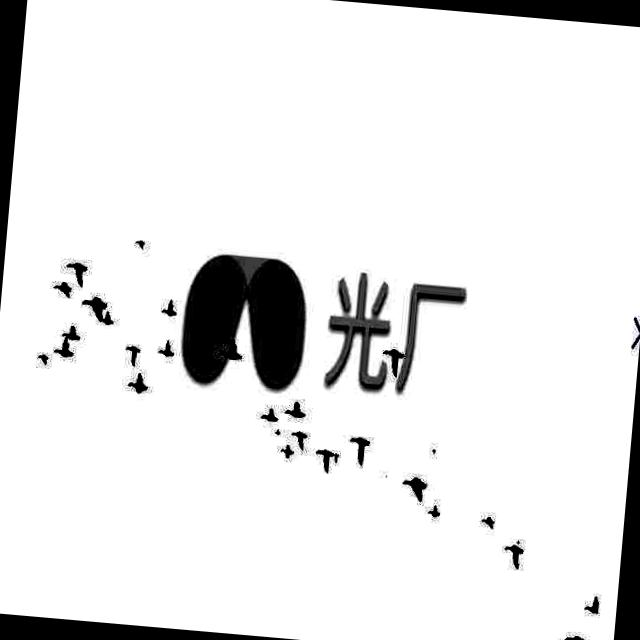bird: (379, 340, 409, 380), (400, 469, 430, 505), (347, 430, 374, 469), (216, 332, 246, 366), (77, 285, 107, 318), (312, 442, 338, 480), (49, 336, 76, 371), (502, 533, 527, 570), (474, 506, 501, 538), (64, 254, 90, 284), (52, 316, 80, 342), (582, 586, 604, 618), (161, 289, 182, 322), (124, 372, 150, 397), (157, 336, 178, 366), (32, 342, 52, 373), (99, 308, 121, 336), (122, 339, 142, 367), (284, 398, 310, 419), (49, 279, 72, 302), (291, 425, 311, 449), (561, 625, 590, 640), (259, 404, 280, 424), (428, 503, 443, 527), (278, 442, 294, 464), (135, 235, 149, 257)
